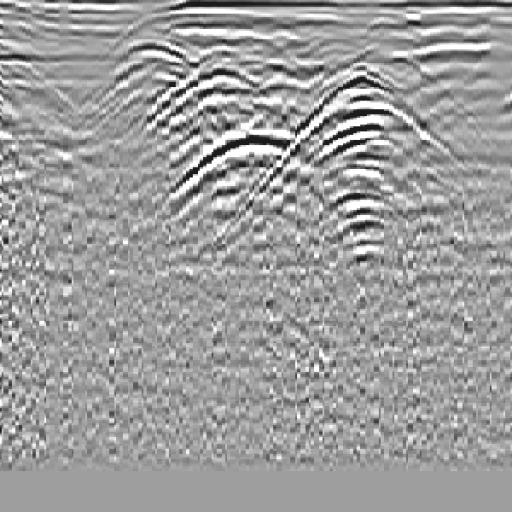metalic: (260, 48, 464, 286)
